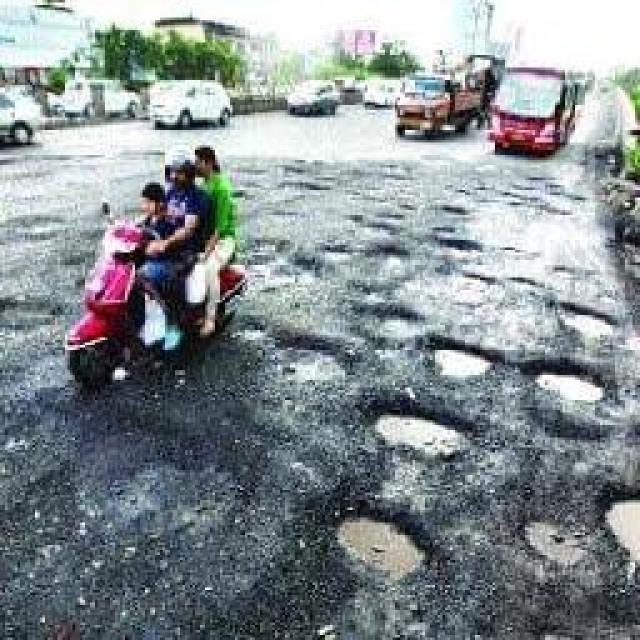stagnation: (325, 493, 430, 573), (372, 396, 468, 455), (528, 354, 625, 409), (598, 483, 640, 551)
